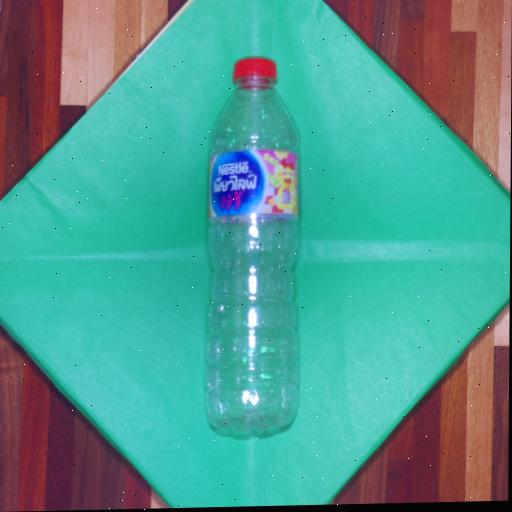bottle: (190, 38, 315, 444)
